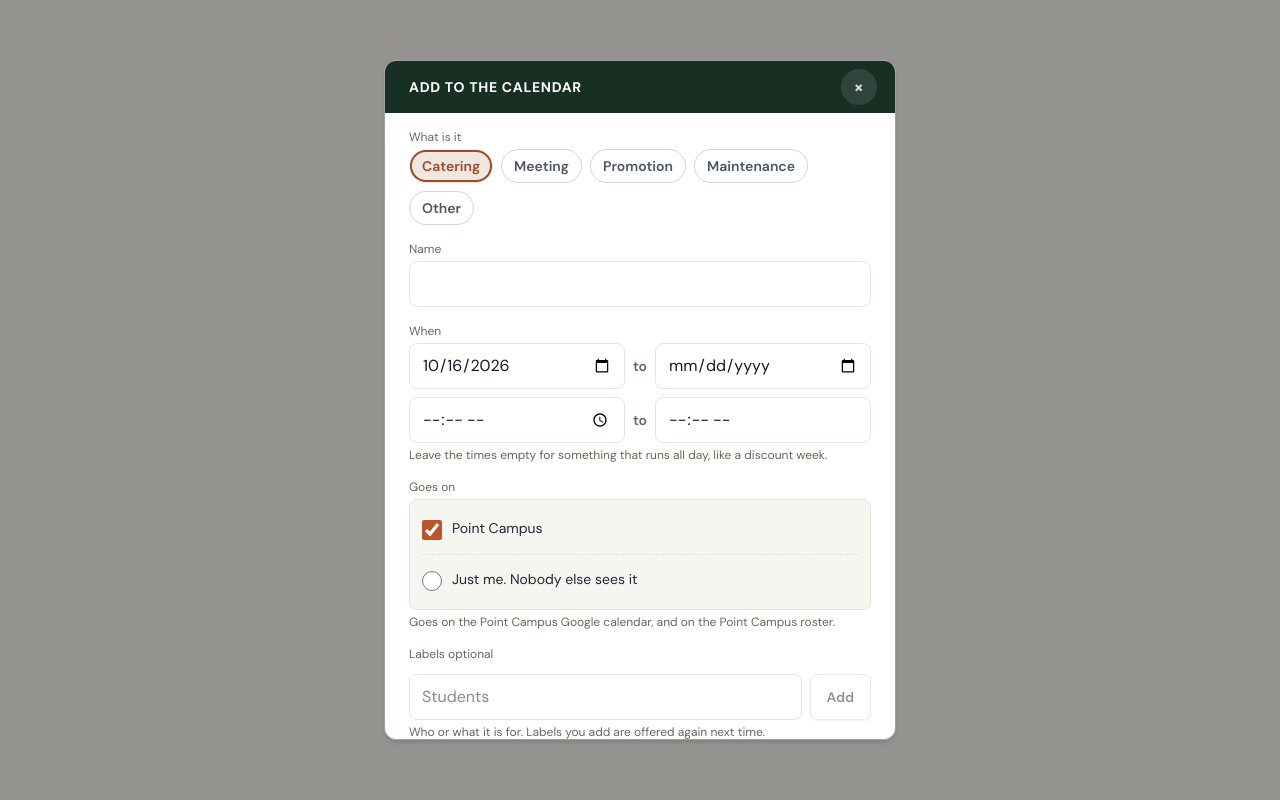
Test: saving again after it did not reach Google › keeps what Google said off the screen and in the console
In the field labelled "Name": (640,284) x1=409 y1=261 x2=871 y2=307, type "Lunch for twelve"
(page scrolled)
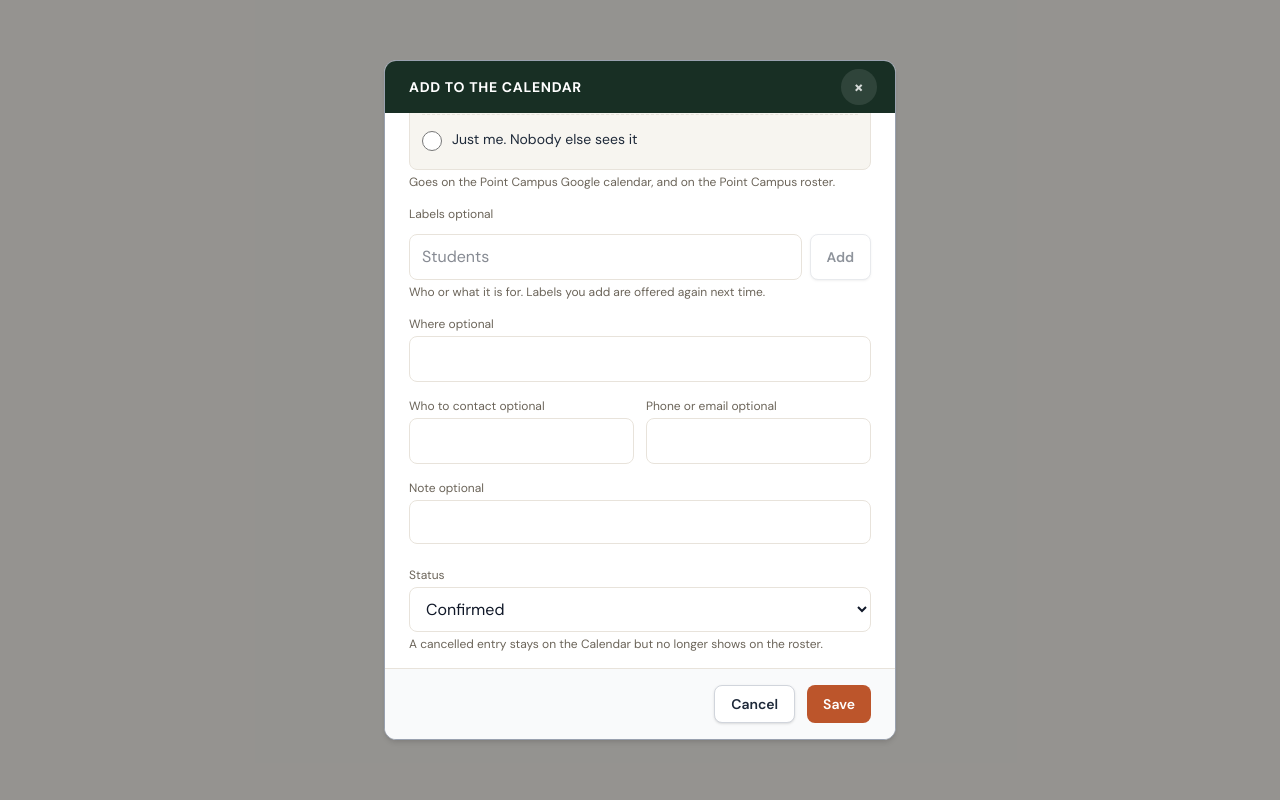
Click the button "Save": (839,704) x1=807 y1=685 x2=871 y2=723
(page scrolled)
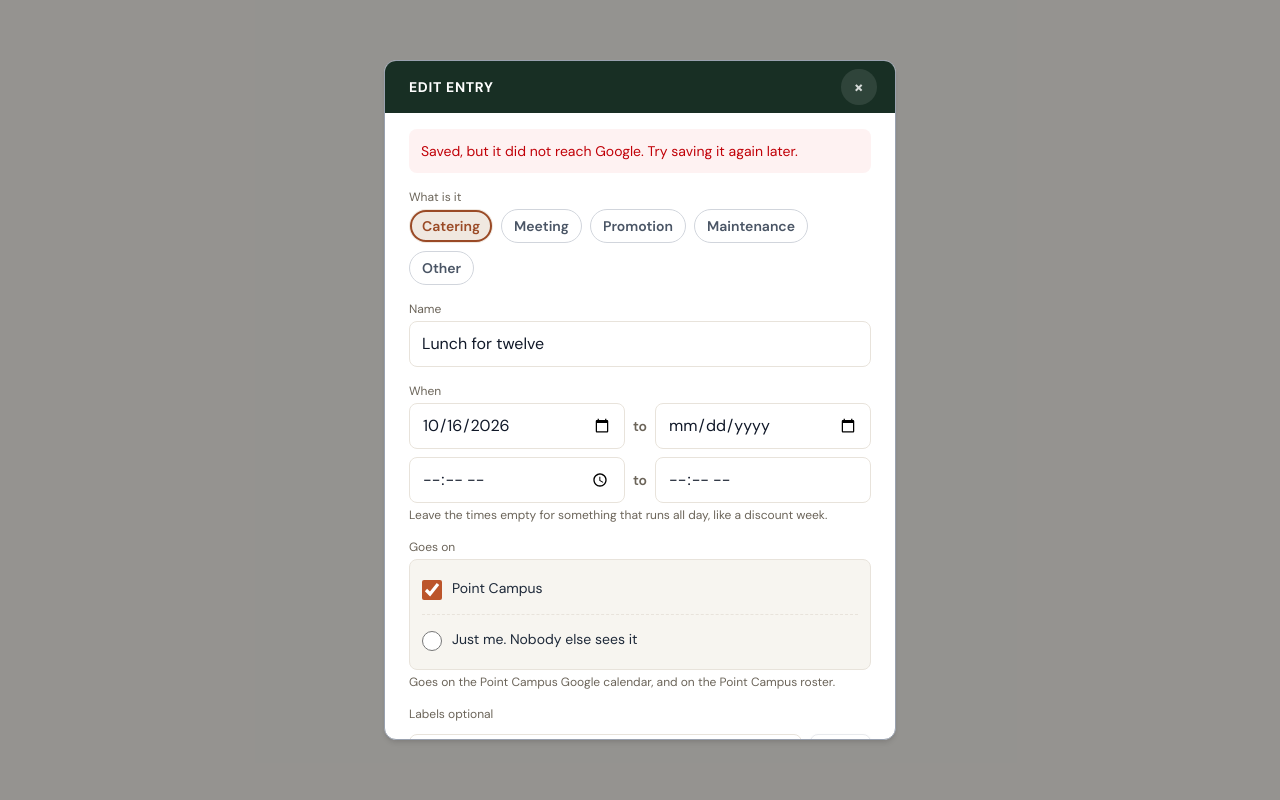
Now the text "Saved, but it did not reach Google. Try saving it again later." is shown, box x1=409 y1=129 x2=871 y2=173
